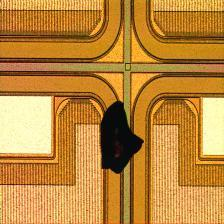PARTICLE: (96, 97, 148, 179)
